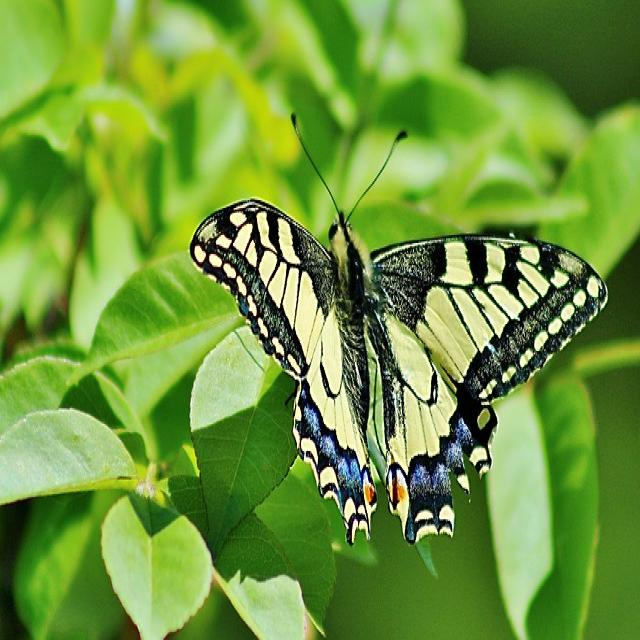butterfly: (187, 197, 611, 549)
